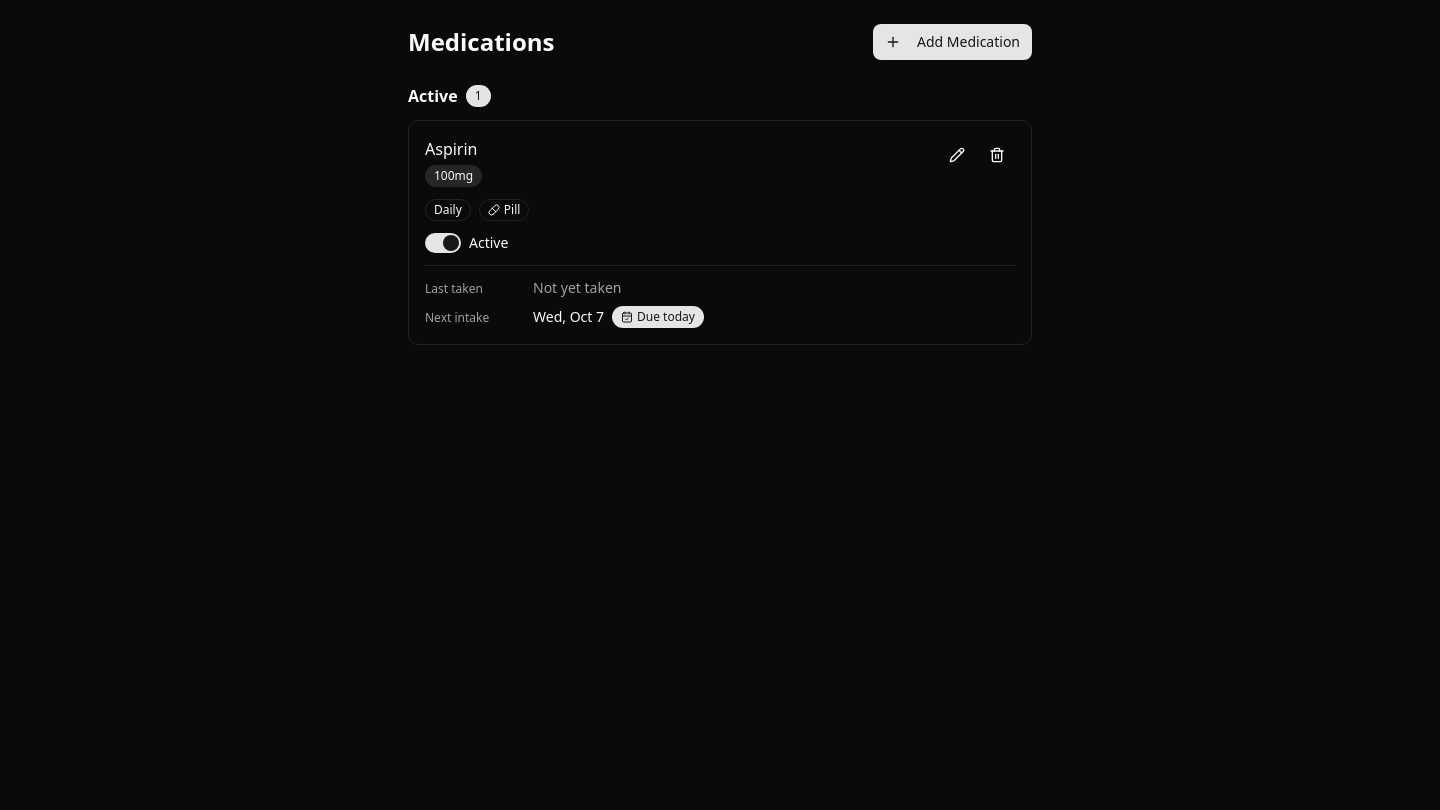
MedicationsPage › edit form pre-populates all saved field values
Check: the text "Aspirin" is shown, box [425, 137, 482, 161]
Click the button named "edit" at (957, 155), box [939, 137, 975, 173]
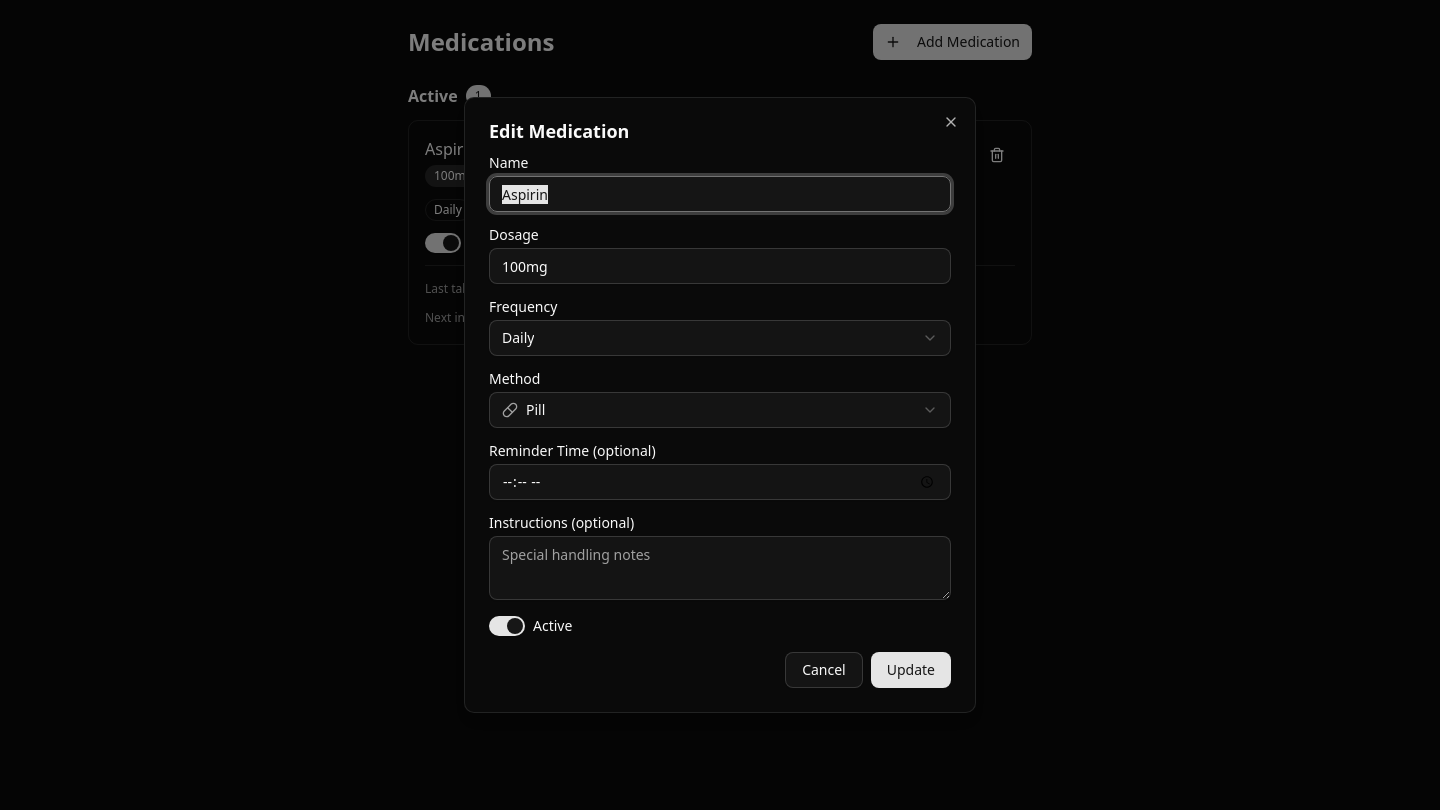
Check: the field showing "Aspirin" is shown, box [489, 176, 951, 212]
